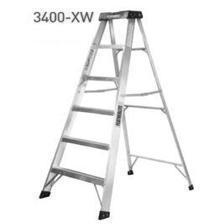Hand: (123, 44, 212, 154)
